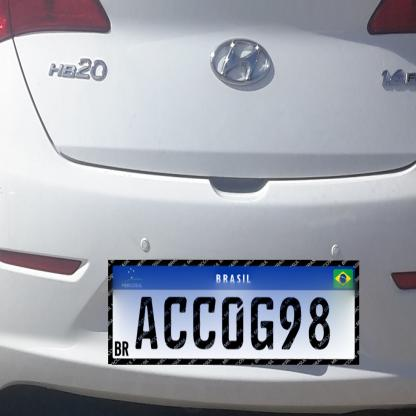PlacaM: (108, 260, 359, 365)
